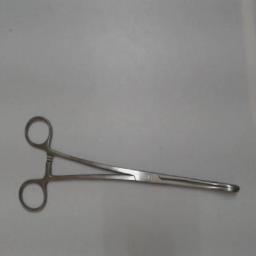Sponge Forceps: (16, 112, 246, 220)
